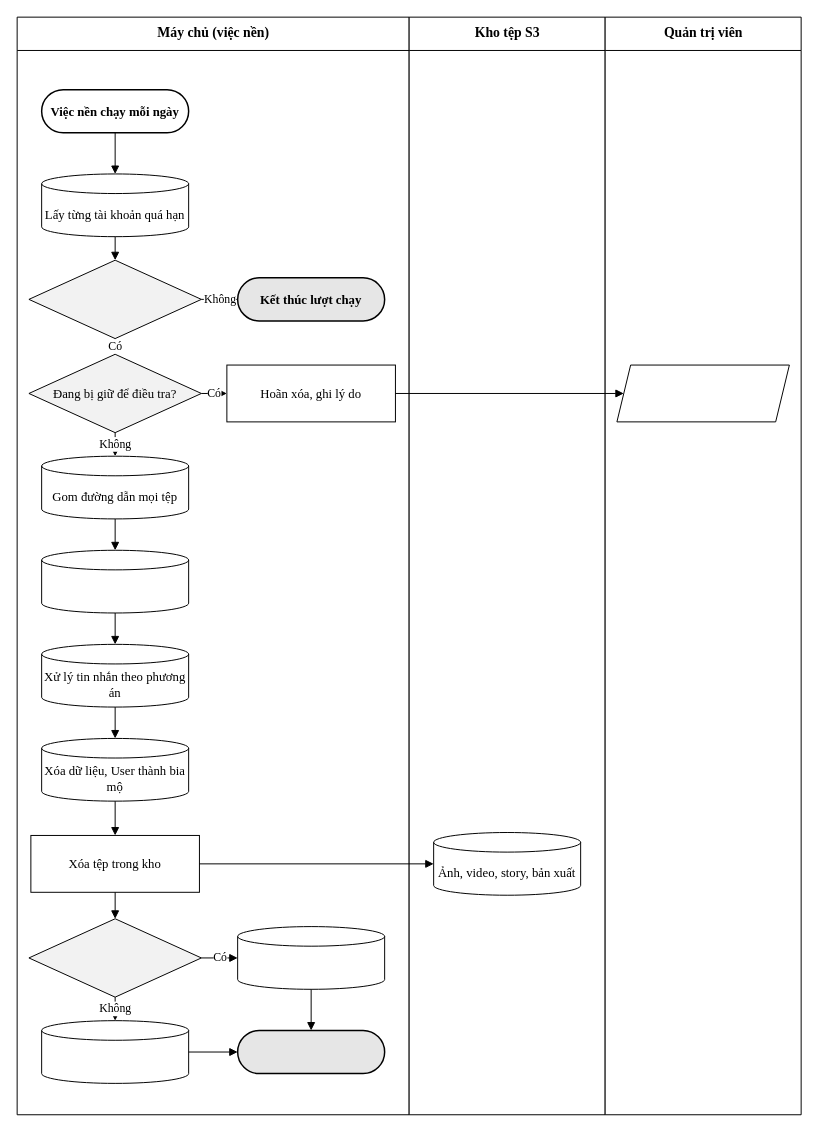
The diagram is 818 pixels wide and 1132 high, and some of its shapes have lost their labels. Here are the shapes that lost their labels. From the top down, the centre of each, then its label:
At (114,299): "Còn tài khoản cần xóa?".
At (702,393): "Danh sách tài khoản bị giữ".
At (115,581): "Giữ báo cáo, chép ảnh bằng chứng".
At (114,957): "Có tệp xóa lỗi?".
At (311,957): "Ghi hàng đợi xóa lại".
At (115,1051): "Nhật ký: đã xóa, không lưu tên".
At (310,1051): "Email xác nhận đã xóa".
